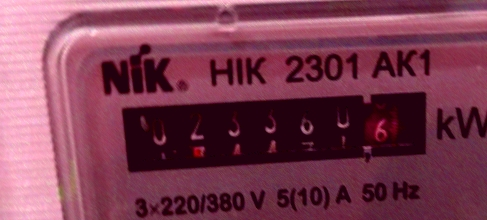0: (147, 112, 169, 146), (330, 99, 352, 130)
2: (186, 107, 206, 140)
3: (260, 101, 279, 134), (222, 106, 241, 137)
6: (295, 103, 316, 136), (370, 112, 391, 145)
screen: (105, 81, 443, 177)
